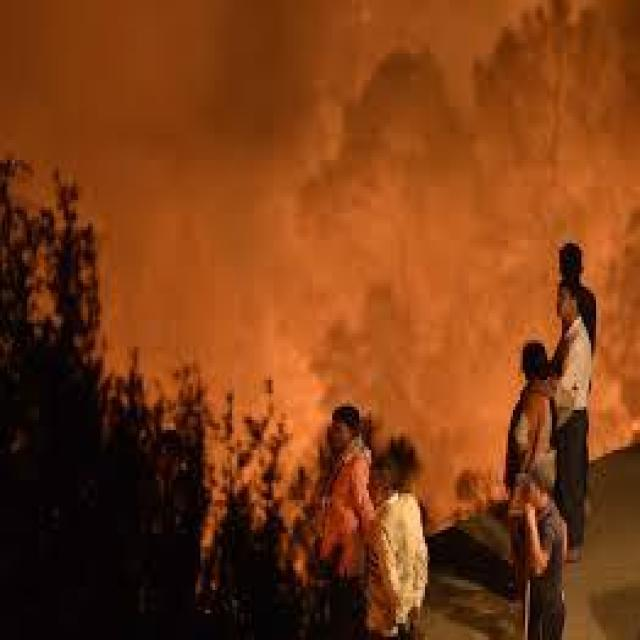smoke: (11, 13, 589, 400)
